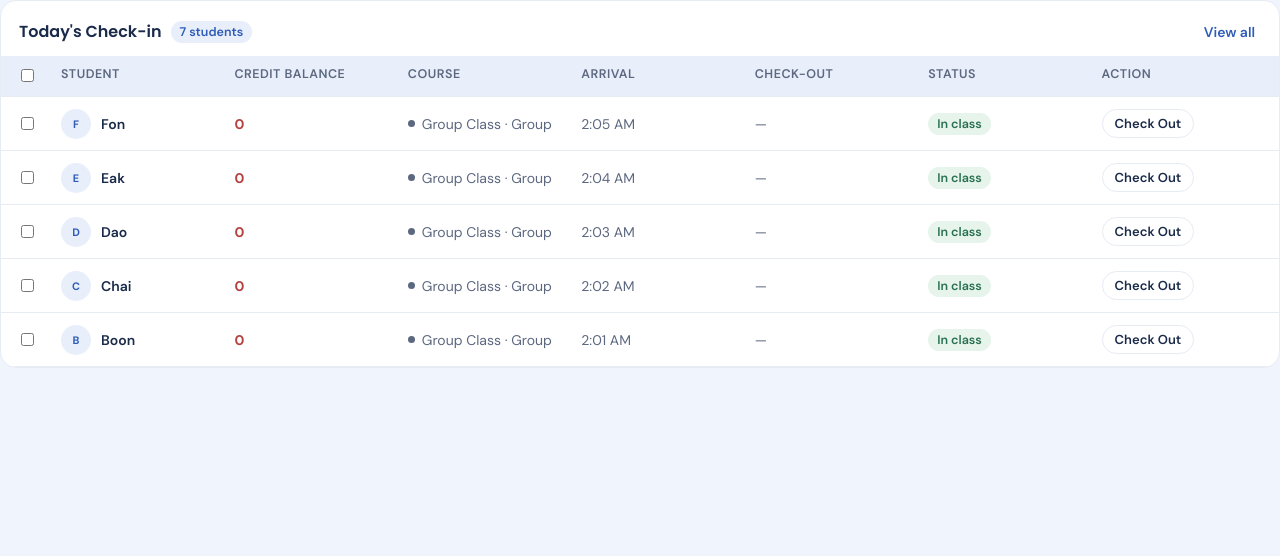
Test: selecting who goes home › checks the whole selection out in one act
Expected: the text "Fon" is shown, x1=101 y1=114 x2=125 y2=132
Click the checkbox named "Select everyone still in class" at (28, 76), box x1=21 y1=69 x2=34 y2=82
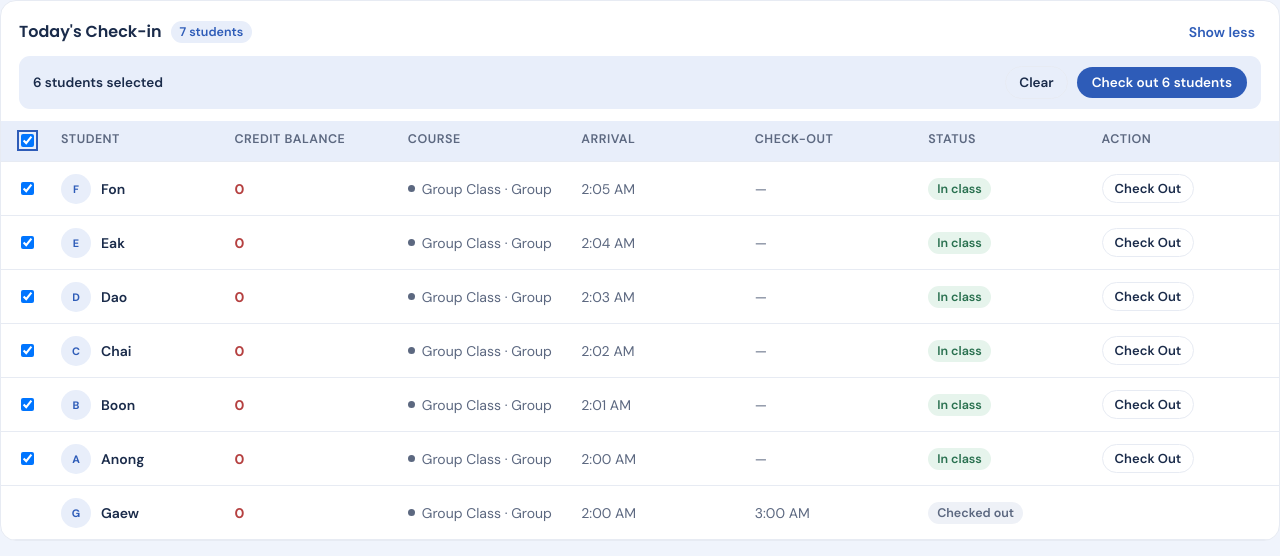
Click the button "Check out 6 students" at (1162, 82), box x1=1077 y1=67 x2=1247 y2=98
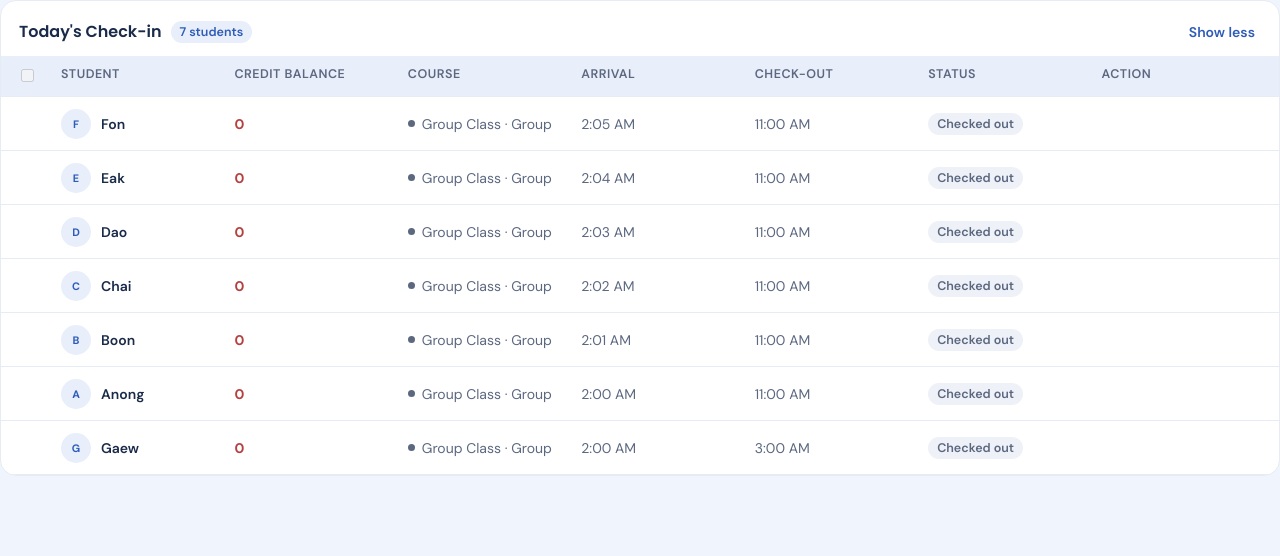
Expected: the button "Check out" is gone
Expected: the text "Checked out" is shown 7 times
